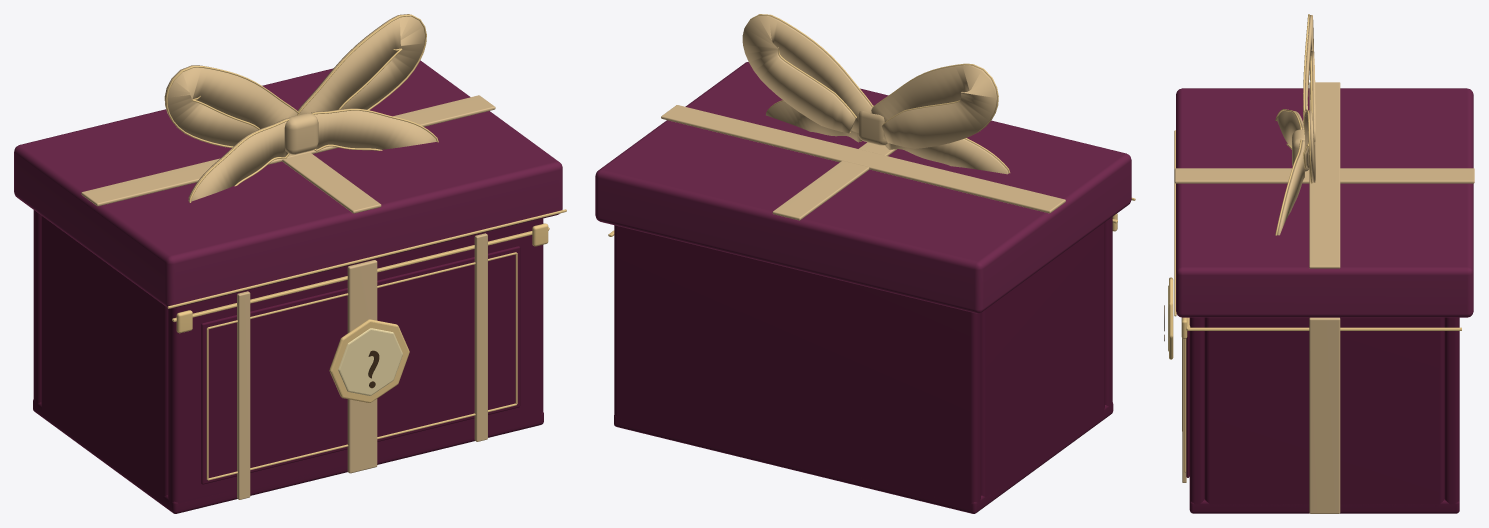
Rendered from style-club-mystery-box-7500.glb.
3 renders of one model, left to right at view 1: azimuth 30°, elevation 25°; view 2: azimuth 150°, elevation 25°; view 3: azimuth 270°, elevation 25°, orthographic. The views are drawn at different scales.
Visible parts, largest first — view 1: LidShell_Main, BoxInsetPanel_Front, BoxShell_Sides_-1, BoxShell_FrontBack_-1, GiftRibbon_BowLoop_-1, GiftRibbon_BowLoop_1, GiftRibbon_Front, GiftRibbon_LidCrosswise, GiftRibbon_Tail_1, GiftRibbon_Tail_-1, MysterySeal_Face, GiftRibbon_Secondary_-1 (+12 smaller); view 2: BoxShell_FrontBack_1, LidShell_Main, BoxShell_Sides_-1, GiftRibbon_BowLoop_1, GiftRibbon_BowLoop_-1, GiftRibbon_LidCrosswise, GiftRibbon_LidLengthwise, BoxShell_Bottom, GiftRibbon_Tail_-1, BoxShell_FrontBack_-1, GiftRibbon_Tail_1, GiftRibbon_BowKnot; view 3: LidShell_Main, BoxShell_Sides_1, GiftRibbon_Right, GiftRibbon_LidCrosswise, GiftRibbon_LidLengthwise, BoxShell_FrontBack_1, BoxShell_FrontBack_-1, BoxShell_Bottom, Metal_SeamRight, GiftRibbon_Tail_1, GiftRibbon_BowLoop_-1, GiftRibbon_Secondary_1 (+5 smaller).
Boxes of the visible parts, x1=… form: LidShell_Main: x1=14, y1=60, x2=562, y2=308; BoxInsetPanel_Front: x1=201, y1=246, x2=520, y2=484; BoxShell_Sides_-1: x1=41, y1=215, x2=167, y2=502; BoxShell_FrontBack_-1: x1=168, y1=218, x2=543, y2=508; GiftRibbon_BowLoop_-1: x1=164, y1=65, x2=297, y2=146; GiftRibbon_BowLoop_1: x1=297, y1=14, x2=424, y2=114; GiftRibbon_Front: x1=347, y1=260, x2=377, y2=473; GiftRibbon_LidCrosswise: x1=81, y1=95, x2=495, y2=206; GiftRibbon_Tail_1: x1=311, y1=108, x2=436, y2=149; GiftRibbon_Tail_-1: x1=188, y1=118, x2=287, y2=201; MysterySeal_Face: x1=338, y1=328, x2=402, y2=395; GiftRibbon_Secondary_-1: x1=237, y1=291, x2=250, y2=499; BoxShell_FrontBack_1: x1=614, y1=225, x2=980, y2=509; LidShell_Main: x1=595, y1=62, x2=1131, y2=313; BoxShell_Sides_-1: x1=981, y1=222, x2=1104, y2=501; GiftRibbon_BowLoop_1: x1=742, y1=15, x2=872, y2=133; GiftRibbon_BowLoop_-1: x1=871, y1=65, x2=997, y2=148; GiftRibbon_LidCrosswise: x1=661, y1=105, x2=1065, y2=213; GiftRibbon_LidLengthwise: x1=772, y1=142, x2=897, y2=220; BoxShell_Bottom: x1=614, y1=402, x2=1113, y2=513; GiftRibbon_Tail_-1: x1=885, y1=138, x2=1008, y2=174; BoxShell_FrontBack_-1: x1=1105, y1=217, x2=1112, y2=412; GiftRibbon_Tail_1: x1=766, y1=101, x2=861, y2=142; GiftRibbon_BowKnot: x1=858, y1=105, x2=887, y2=145; LidShell_Main: x1=1176, y1=88, x2=1473, y2=317; BoxShell_Sides_1: x1=1204, y1=317, x2=1444, y2=510; GiftRibbon_Right: x1=1309, y1=317, x2=1340, y2=513; GiftRibbon_LidCrosswise: x1=1309, y1=82, x2=1340, y2=268; GiftRibbon_LidLengthwise: x1=1174, y1=168, x2=1474, y2=183; BoxShell_FrontBack_1: x1=1444, y1=317, x2=1459, y2=509; BoxShell_FrontBack_-1: x1=1189, y1=317, x2=1204, y2=510; BoxShell_Bottom: x1=1189, y1=499, x2=1459, y2=513; Metal_SeamRight: x1=1187, y1=327, x2=1461, y2=330; GiftRibbon_Tail_1: x1=1277, y1=140, x2=1304, y2=235; GiftRibbon_BowLoop_-1: x1=1305, y1=15, x2=1315, y2=141; GiftRibbon_Secondary_1: x1=1182, y1=338, x2=1186, y2=482.
Bounding box in the file's own units: 1.89 × 1.74 × 1.35.
